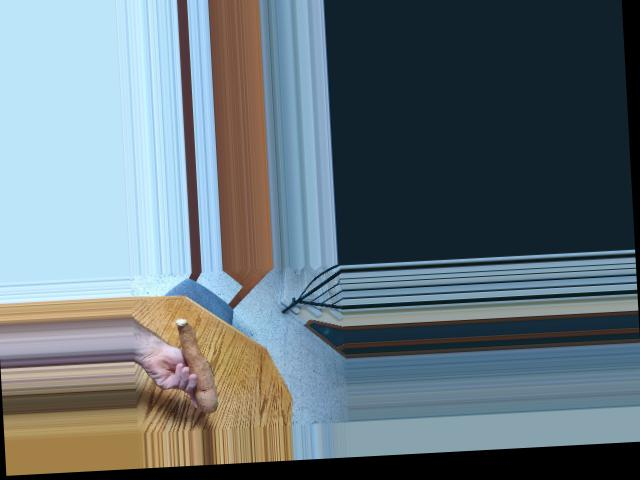sweet_potato: (174, 315, 221, 412)
